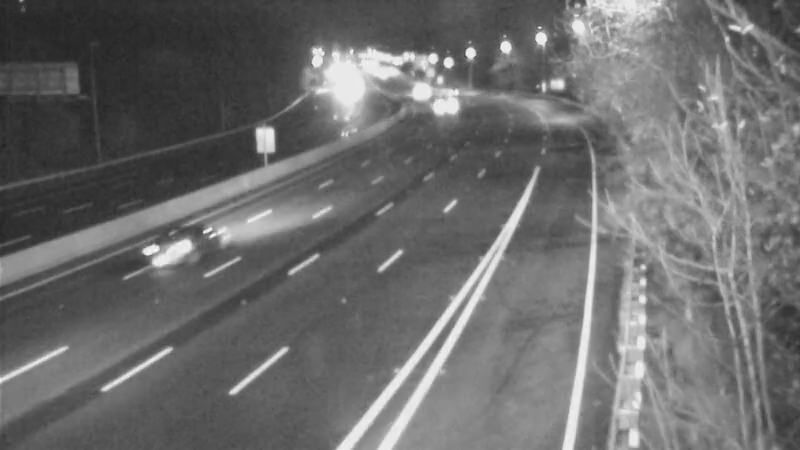vehicle: (138, 201, 218, 281), (425, 64, 475, 114), (392, 71, 442, 121), (419, 82, 469, 132)
